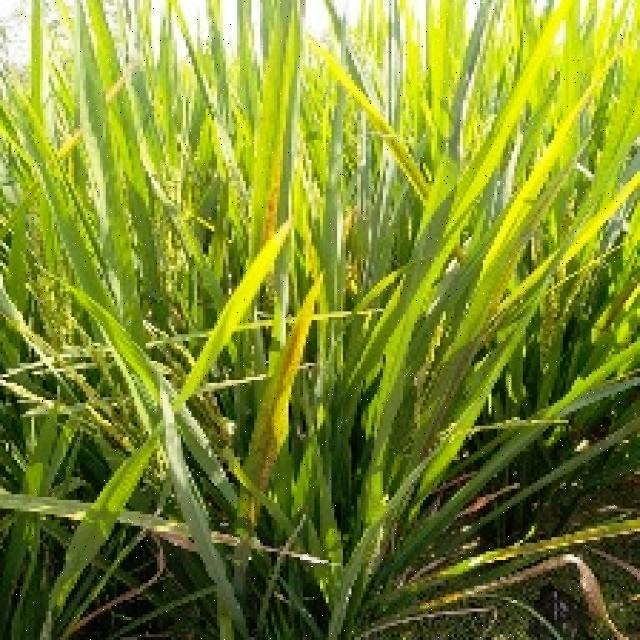health: (34, 3, 640, 143)
